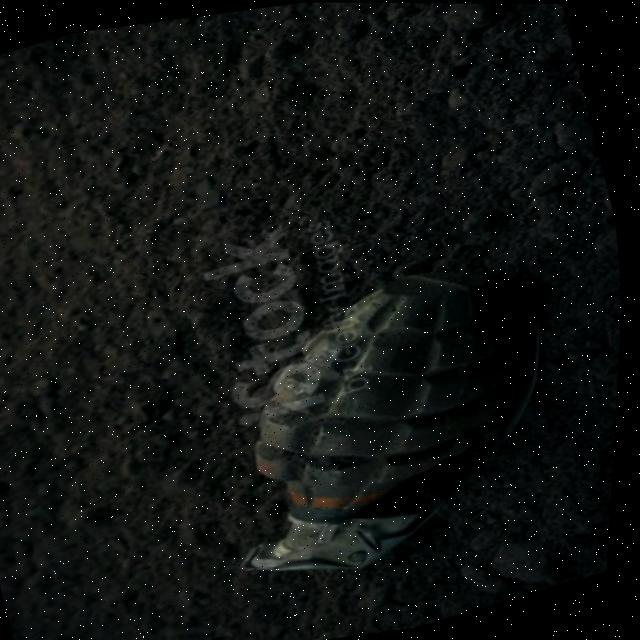grenade: (167, 220, 628, 610)
